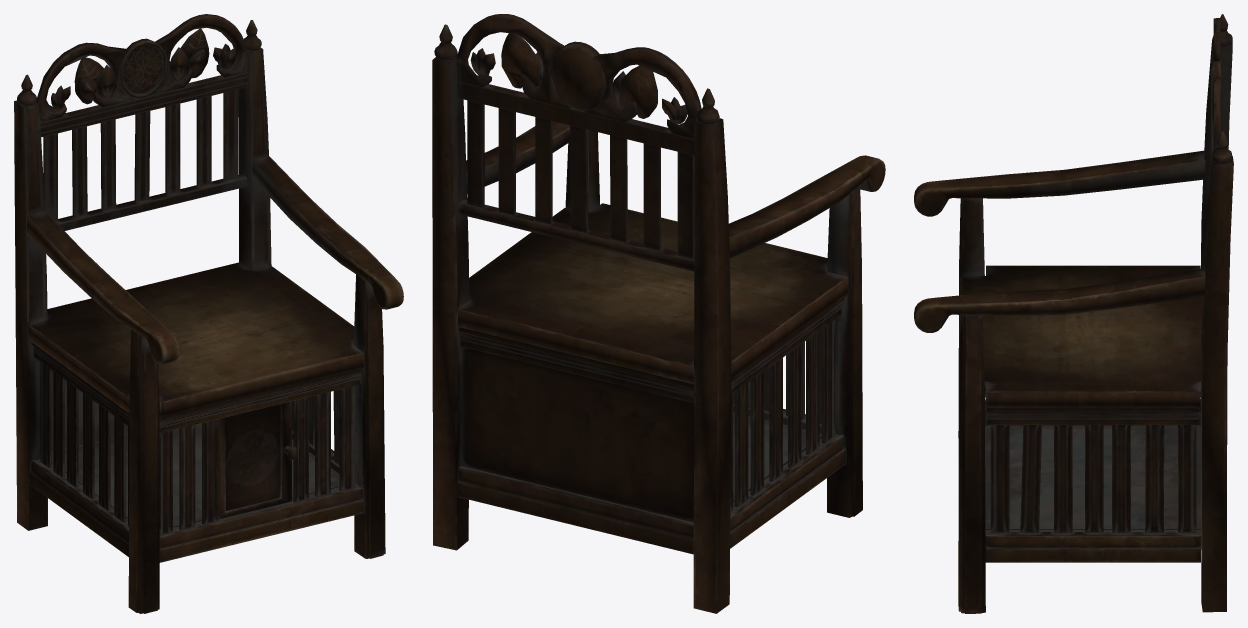
The model's file is gallinera_chair.glb.
3 renders of one model, left to right at view 1: azimuth 30°, elevation 25°; view 2: azimuth 150°, elevation 25°; view 3: azimuth 270°, elevation 25°, orthographic. The views are drawn at different scales.
Visible parts, largest first — view 1: gallinera_chair; view 2: gallinera_chair; view 3: gallinera_chair.
Boxes of the visible parts, <box> form: gallinera_chair: <box>14,14,403,613</box>; gallinera_chair: <box>432,14,885,613</box>; gallinera_chair: <box>914,14,1233,613</box>.
Size of the model in its own units: 0.5799 by 1.03 by 0.6034.
Materials: 1 (1 with a texture image).
